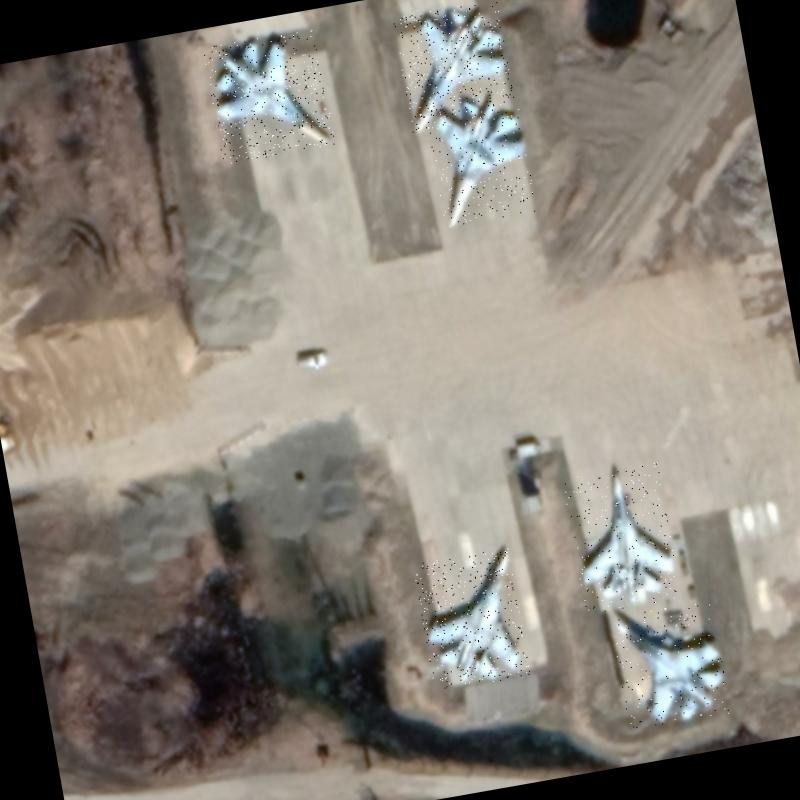A1: (562, 462, 682, 615), (203, 28, 336, 165), (413, 548, 531, 692), (392, 0, 517, 135), (610, 600, 731, 731), (424, 90, 538, 228)
